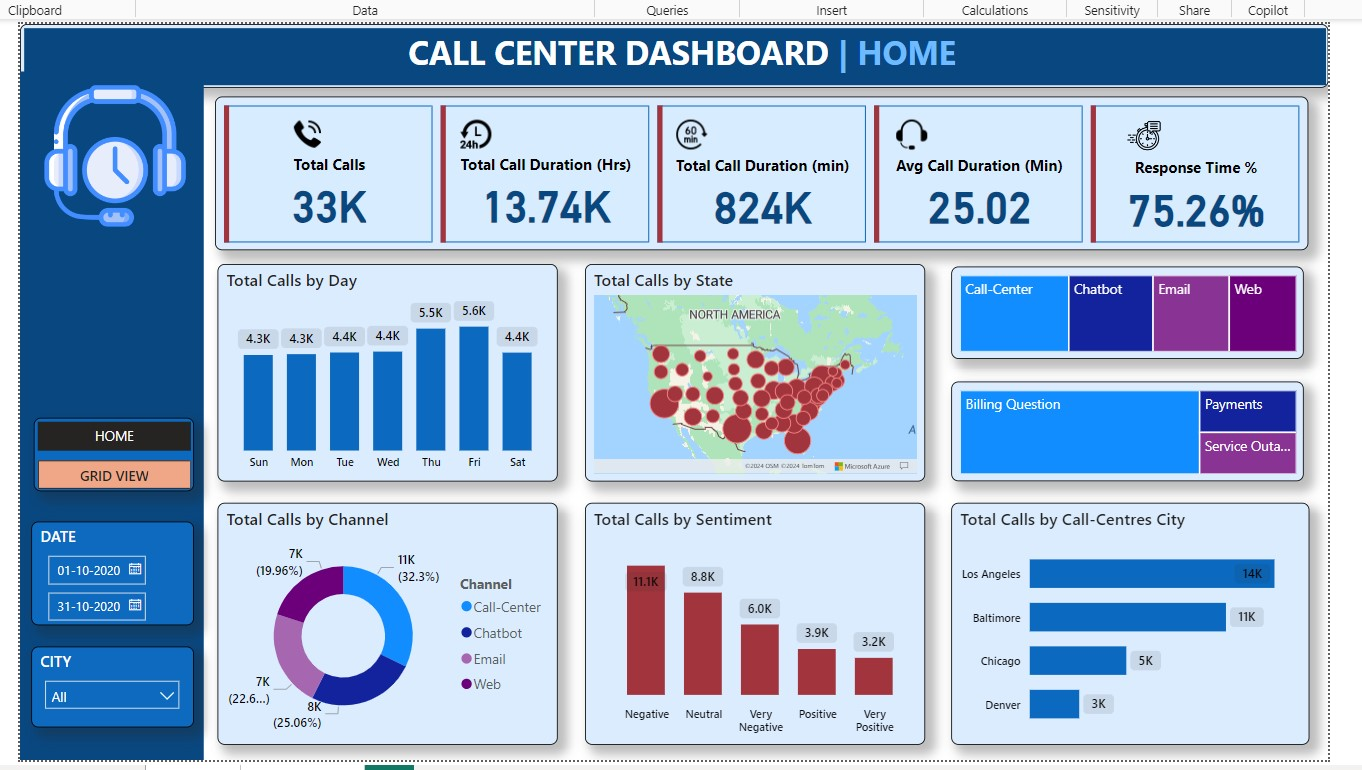

The page's visual inventory and layout, read from the dashboard file:
{"tool":"powerbi","page":{"name":"HOME","canvas":[1280,720],"ordinal":0},"visuals":[{"type":"shape","box":[0,0,1279.9,62.3],"z":0},{"type":"shape","box":[0,46.7,179.8,673.8],"z":1000},{"type":"cardVisual","fields":{"Data":["Call Center_Call Center.Total Calls","Call Center_Call Center.Total Call Duration (Hrs)","Call Center_Call Center.Total Call Duration (min)","Call Center_Call Center.Avg Call Duration (Min)","Call Center_Call Center.Response Time %"]},"box":[190.7,70.9,1069.6,150.4],"z":2000},{"type":"textbox","box":[365,1.4,566.7,60.4],"z":3000},{"type":"columnChart","fields":{"Y":["Call Center_Call Center.Total Calls"],"Category":["Date Table.Day"]},"box":[193.4,234.5,332.5,212.7],"z":4000},{"type":"azureMap","fields":{"Category":["Call Center_Call Center.State"],"Size":["Call Center_Call Center.Total Calls"]},"box":[552.5,234.5,332.5,212.7],"z":5000},{"type":"treemap","fields":{"Group":["Call Center_Call Center.Reason"],"Values":["Call Center_Call Center.Total Calls"]},"box":[911,349.7,344.8,97.8],"z":6000},{"type":"donutChart","fields":{"Y":["Call Center_Call Center.Total Calls"],"Category":["Call Center_Call Center.Channel"]},"box":[193.4,468.2,332.5,237.1],"z":7000},{"type":"columnChart","fields":{"Category":["Call Center_Call Center.Sentiment"],"Y":["Call Center_Call Center.Total Calls"]},"box":[552.5,468.2,332.5,237.1],"z":8000},{"type":"barChart","fields":{"Y":["Call Center_Call Center.Total Calls"],"Category":["Call Center_Call Center.Call-Centres City"]},"box":[911,468,350,237],"z":9000},{"type":"slicer","title":"DATE","fields":{"Values":["Date Table.Date"]},"box":[11,487,158.9,101.5],"z":10000},{"type":"slicer","title":"CITY","fields":{"Values":["Call Center_Call Center.City"]},"box":[11,609.2,158.9,79.5],"z":11000},{"type":"image","box":[13.4,55,158.9,147.9],"z":12000},{"type":"pageNavigator","box":[13.5,385.5,156.5,72.1],"z":13000},{"type":"treemap","fields":{"Group":["Call Center_Call Center.Channel"],"Values":["Call Center_Call Center.Total Calls"]},"box":[911,237.2,344.8,90.5],"z":14000}]}

Visuals, with their boxes on the page's 1280x720 design canvas (x1, y1, x2, y2). These are canvas units, not pixel positions in the 1362x770 screenshot, which may show the page scaled, cropped or inside an application window:
shape: Rect(0, 0, 1280, 62)
shape: Rect(0, 47, 180, 720)
cardVisual - Call Center_Call Center.Total Calls x Call Center_Call Center.Total Call Duration (Hrs): Rect(191, 71, 1260, 221)
textbox: Rect(365, 1, 932, 62)
columnChart - Call Center_Call Center.Total Calls x Date Table.Day: Rect(193, 234, 526, 447)
azureMap - Call Center_Call Center.State x Call Center_Call Center.Total Calls: Rect(552, 234, 885, 447)
treemap - Call Center_Call Center.Reason x Call Center_Call Center.Total Calls: Rect(911, 350, 1256, 448)
donutChart - Call Center_Call Center.Total Calls x Call Center_Call Center.Channel: Rect(193, 468, 526, 705)
columnChart - Call Center_Call Center.Sentiment x Call Center_Call Center.Total Calls: Rect(552, 468, 885, 705)
barChart - Call Center_Call Center.Total Calls x Call Center_Call Center.Call-Centres City: Rect(911, 468, 1261, 705)
"DATE" slicer: Rect(11, 487, 170, 588)
"CITY" slicer: Rect(11, 609, 170, 689)
image: Rect(13, 55, 172, 203)
pageNavigator: Rect(14, 386, 170, 458)
treemap - Call Center_Call Center.Channel x Call Center_Call Center.Total Calls: Rect(911, 237, 1256, 328)
